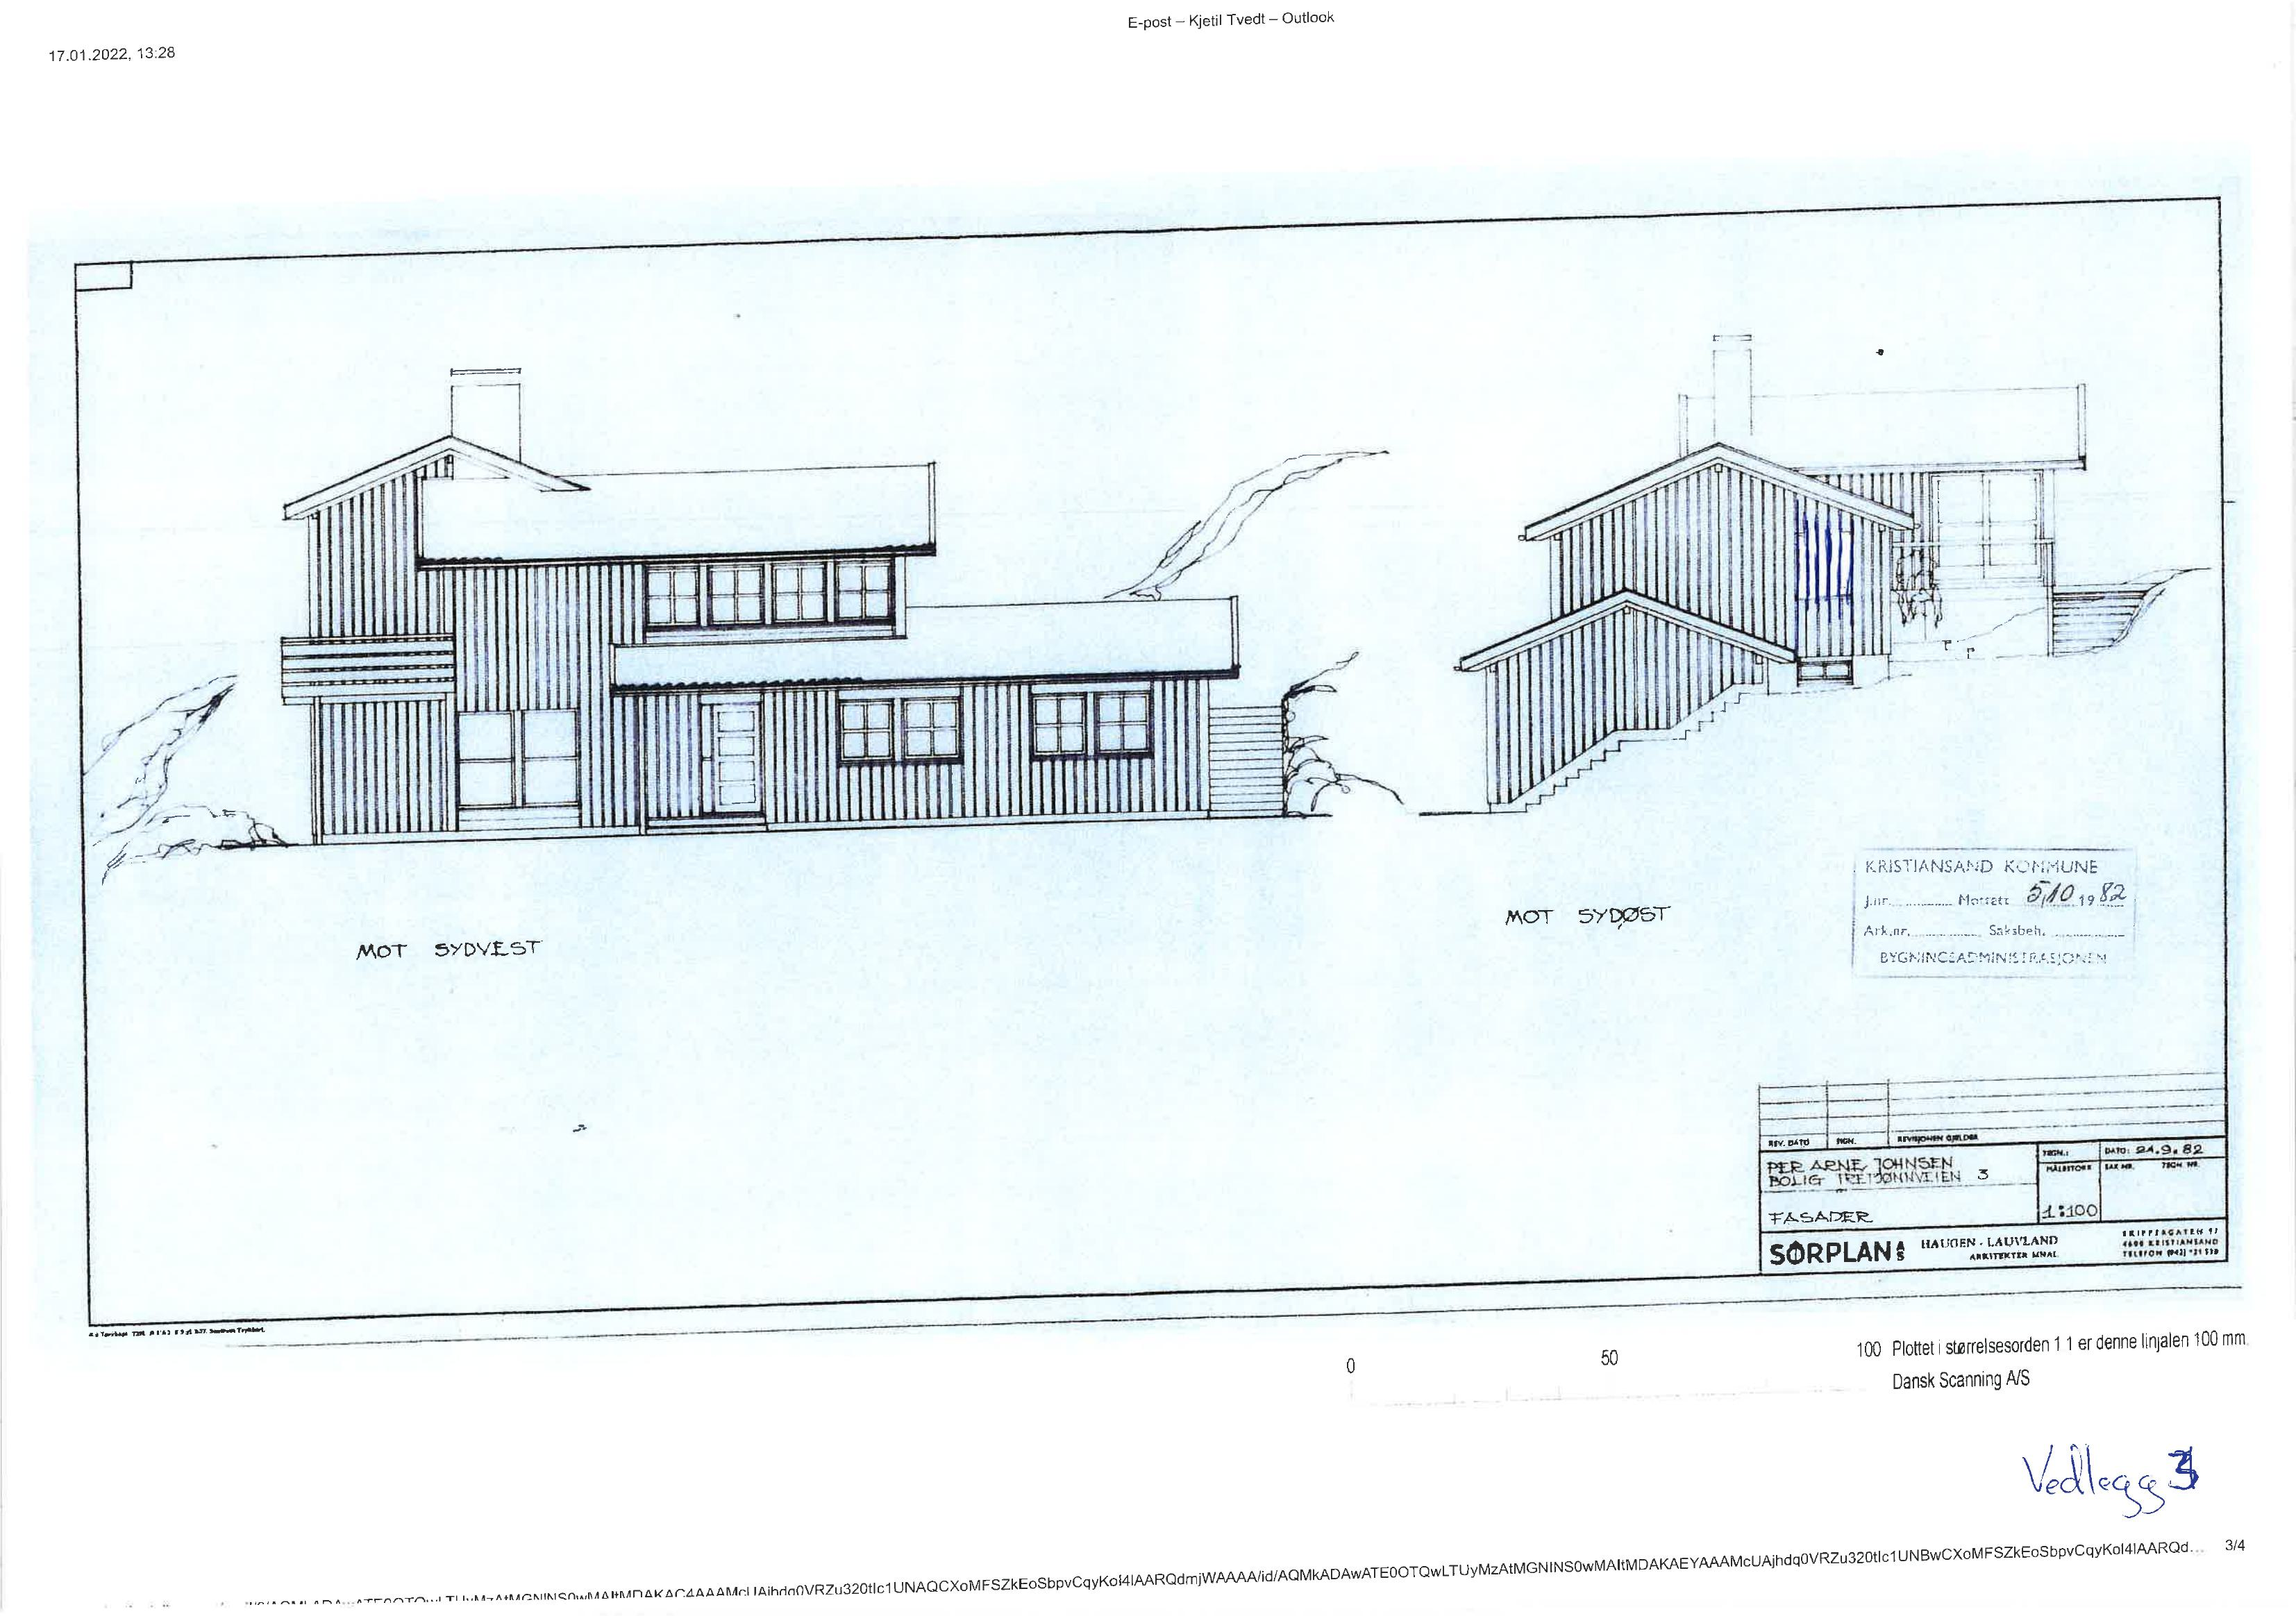fasade: (269, 364, 1336, 830), (1496, 331, 2163, 798)
